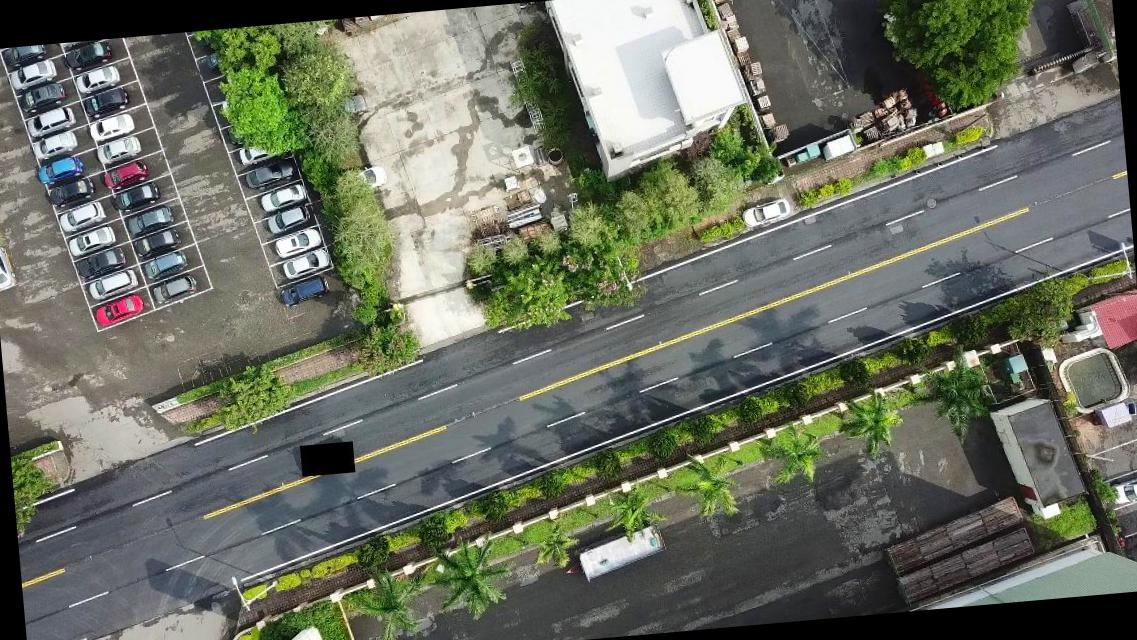vehicle: (276, 273, 328, 306), (64, 224, 116, 256), (22, 106, 74, 138), (280, 248, 332, 280), (124, 203, 174, 236), (102, 159, 150, 193), (130, 226, 181, 258), (76, 248, 126, 280), (28, 130, 78, 162), (108, 180, 158, 212), (242, 160, 295, 190), (272, 226, 321, 258), (92, 296, 144, 326), (740, 198, 792, 228), (8, 58, 56, 90), (86, 268, 137, 298), (258, 183, 307, 214), (263, 204, 313, 234), (18, 80, 64, 112), (83, 86, 129, 118), (141, 250, 187, 282), (150, 272, 196, 304), (34, 155, 83, 185), (46, 178, 94, 208), (88, 113, 136, 142), (61, 42, 111, 69), (96, 136, 144, 164), (72, 64, 118, 92), (0, 45, 48, 69), (0, 242, 16, 293), (358, 162, 389, 188), (340, 93, 371, 119), (238, 143, 273, 164)
